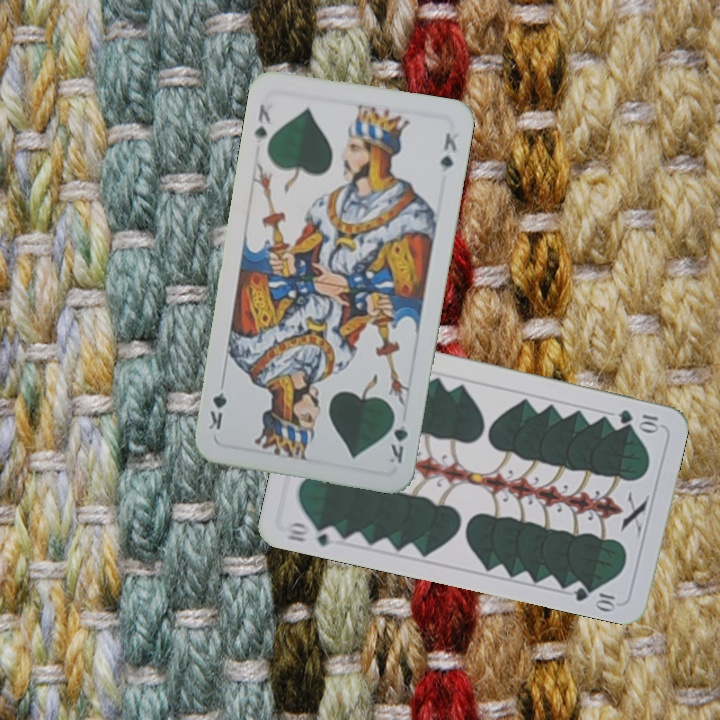G10: (281, 518, 342, 549), (613, 405, 663, 433)
GK: (384, 408, 411, 466), (250, 99, 275, 147)
